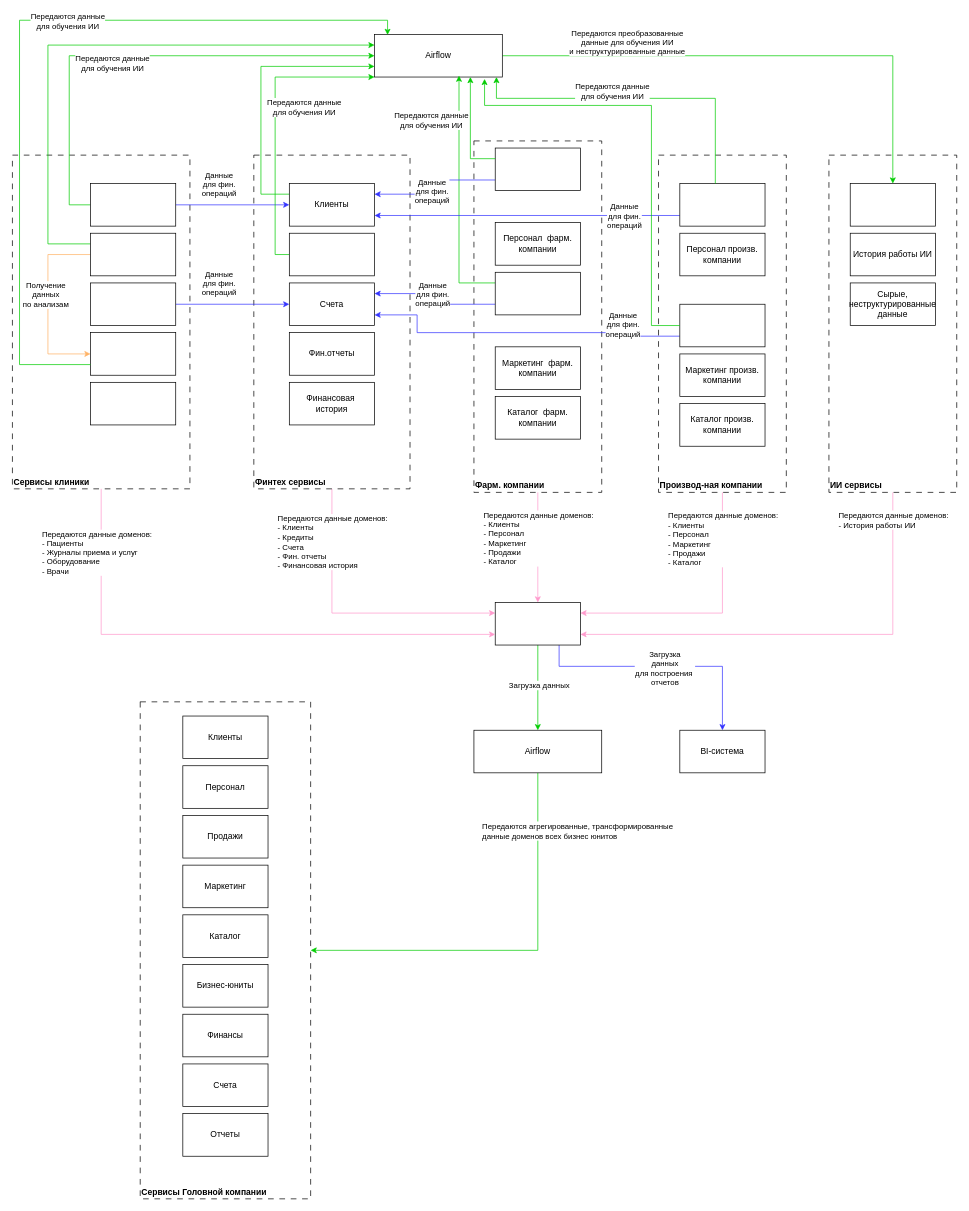
Some shapes in this 969 by 1211 pixel diagram are drawn without their labels. The centre of each missing label's shape, as x and y in pixels:
DWH: the point at 537,623
Врачи: the point at 133,403
Журналы приема и услуг: the point at 133,304
Клиенты произв. компании: the point at 722,204
Клиенты фарм. компании: the point at 537,169
Кредиты: the point at 332,254
Мед.карты: the point at 133,254
Оборудование: the point at 133,353
Обучающая выборка ИИ: the point at 892,204
Пациенты: the point at 133,204
Продажи произв. компании: the point at 722,325
Продажи фарм. компании: the point at 537,293
